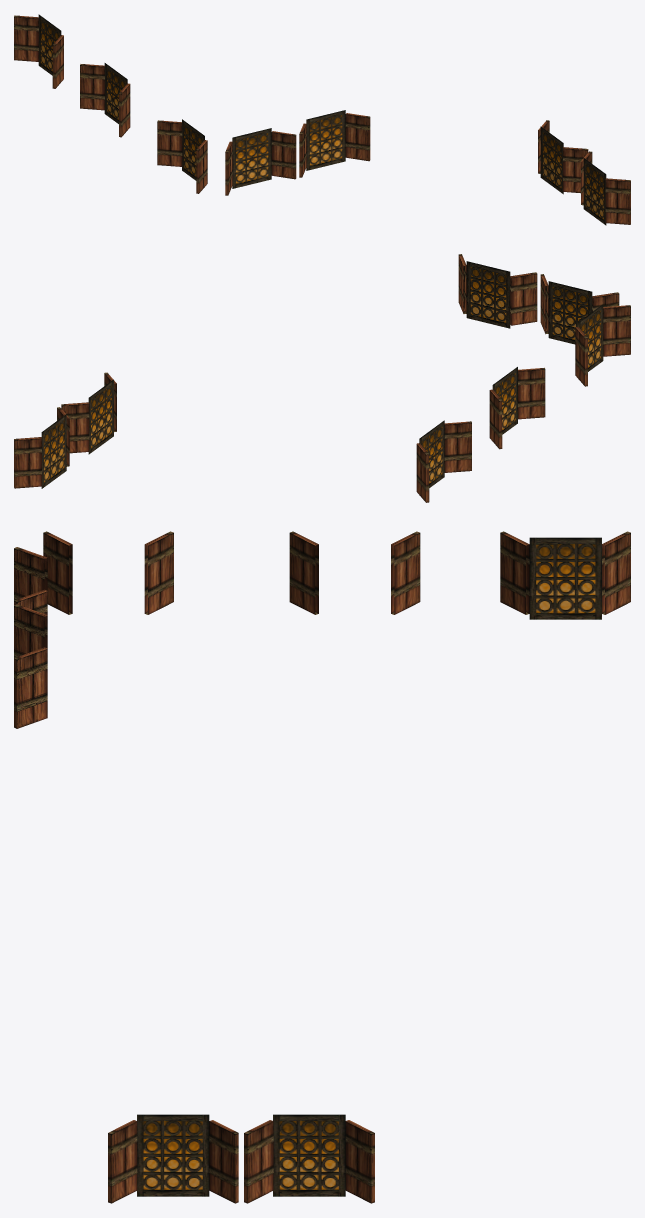
The model's file is LAKETOWN_EXTERIOR_PS_LT_ROUND_WINDOW1_15.obj.
3 renders of one model, top to bottom at view 1: azimuth 30°, elevation 25°; view 2: azimuth 150°, elevation 25°; view 3: azimuth 270°, elevation 25°, orthographic. The views are drawn at different scales.
Parts seen in each view (by area): view 1: ound_window1_15; view 2: ound_window1_15; view 3: ound_window1_15.
Boxes of the visible parts, bbox=[...] form: ound_window1_15: bbox=[14, 14, 630, 225]; ound_window1_15: bbox=[14, 254, 630, 502]; ound_window1_15: bbox=[14, 531, 630, 1203].
Bounding box in the file's own units: 1356 × 591 × 999.
